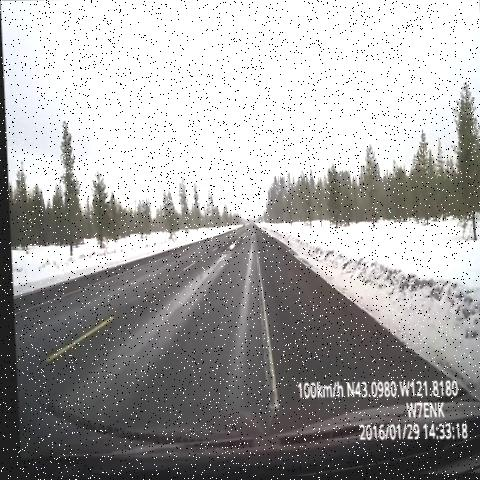pothole: (213, 229, 246, 261)
